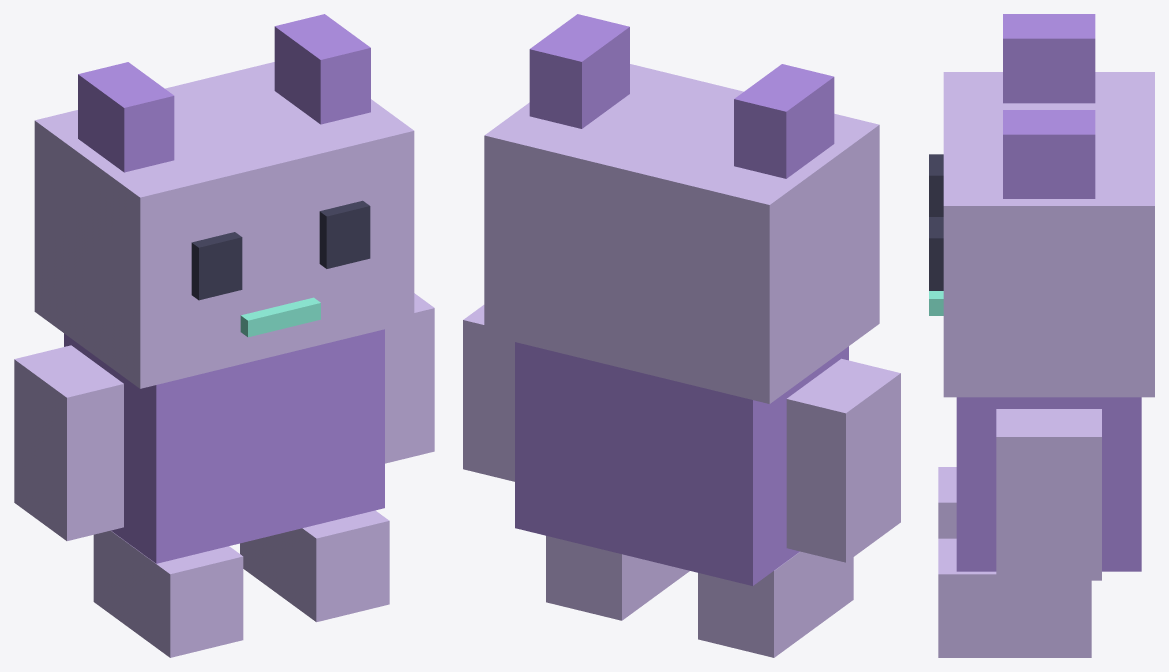
File: starter.glb
3 views of the same model, side by side, from view 1: azimuth 30°, elevation 25°; view 2: azimuth 150°, elevation 25°; view 3: azimuth 270°, elevation 25° (orthographic). The views are drawn at different scales.
Parts seen in each view (by area): view 1: Head, Body, LeftArm, LeftFoot, RightFoot, RightEar, LeftEar, RightArm, RightEye, LeftEye, Mouth; view 2: Head, Body, LeftArm, LeftFoot, RightEar, LeftEar, RightArm, RightFoot; view 3: Head, RightArm, Body, RightFoot, LeftEar, RightEar, LeftFoot, RightEye, LeftEye, Mouth.
Part boxes in pixels (x1=…): Head: x1=34, y1=62, x2=414, y2=388; Body: x1=64, y1=329, x2=384, y2=563; LeftArm: x1=14, y1=345, x2=123, y2=540; LeftFoot: x1=93, y1=530, x2=243, y2=657; RightFoot: x1=240, y1=510, x2=389, y2=622; RightEar: x1=274, y1=14, x2=370, y2=124; LeftEar: x1=78, y1=62, x2=174, y2=172; RightArm: x1=385, y1=293, x2=434, y2=463; RightEye: x1=319, y1=200, x2=370, y2=268; LeftEye: x1=191, y1=232, x2=242, y2=300; Mouth: x1=240, y1=297, x2=320, y2=337; Head: x1=484, y1=64, x2=879, y2=403; Body: x1=515, y1=342, x2=848, y2=585; LeftArm: x1=786, y1=358, x2=900, y2=562; LeftFoot: x1=698, y1=551, x2=853, y2=657; RightEar: x1=529, y1=14, x2=629, y2=128; LeftEar: x1=734, y1=64, x2=834, y2=178; RightArm: x1=463, y1=305, x2=514, y2=481; RightFoot: x1=546, y1=536, x2=689, y2=620; Head: x1=943, y1=72, x2=1154, y2=397; RightArm: x1=996, y1=409, x2=1101, y2=580; Body: x1=956, y1=397, x2=1141, y2=571; RightFoot: x1=938, y1=538, x2=1091, y2=657; LeftEar: x1=1003, y1=14, x2=1095, y2=103; RightEar: x1=1003, y1=110, x2=1095, y2=198; LeftFoot: x1=938, y1=467, x2=956, y2=538; RightEye: x1=929, y1=217, x2=943, y2=290; LeftEye: x1=929, y1=154, x2=943, y2=216; Mouth: x1=929, y1=291, x2=943, y2=315.
Size of the model in its own units: 1.61 by 2.21 by 0.855.
